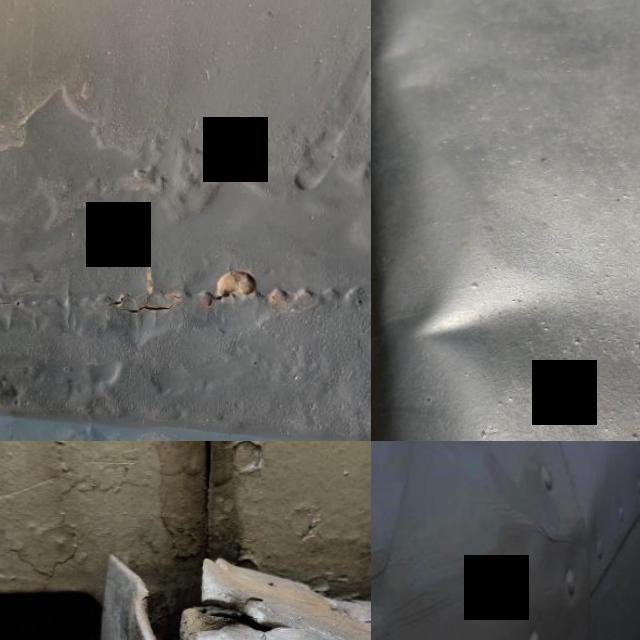Crack: (83, 264, 284, 326), (182, 579, 308, 640)
Dent: (392, 258, 572, 397), (476, 441, 586, 546), (371, 546, 429, 639)
